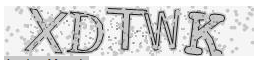D: (66, 9, 104, 54)
K: (185, 9, 226, 57)
T: (106, 6, 147, 53)
W: (142, 8, 182, 54)
X: (24, 7, 68, 55)
